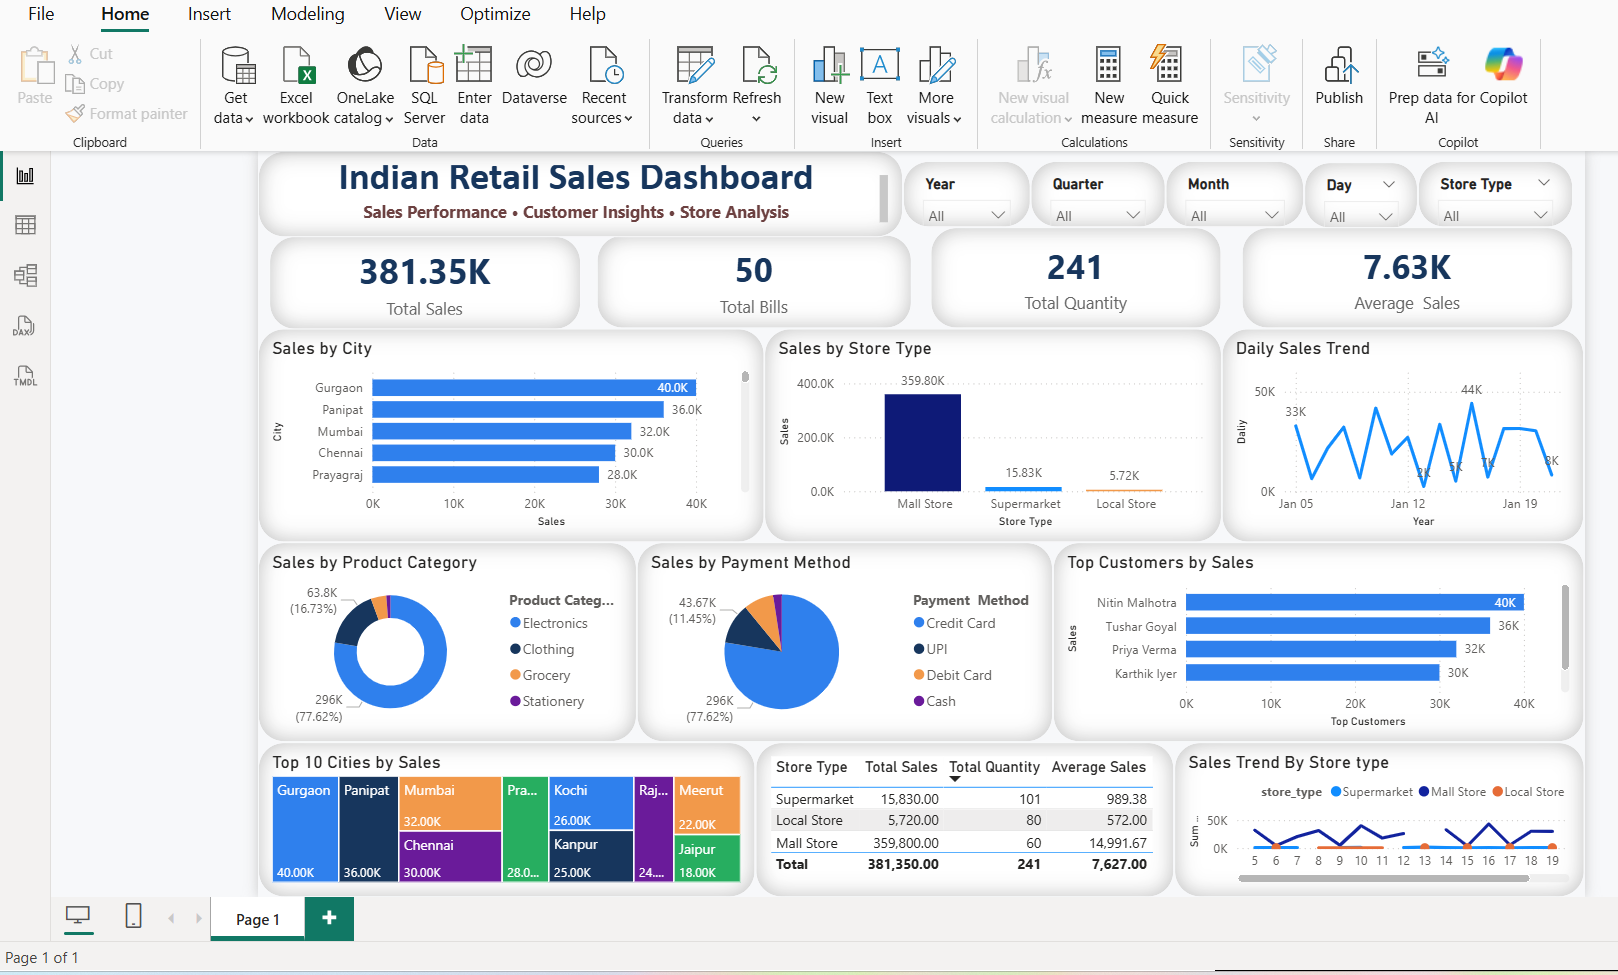

The dashboard page shown, as its layout file describes it:
{"tool":"powerbi","page":{"name":"Page 1","canvas":[1280,720],"ordinal":0},"visuals":[{"type":"card","fields":{"Values":["Sum(public indian_retail_store.quantity)"]},"box":[649.1,73.6,281.1,97.7],"z":0},{"type":"card","fields":{"Values":["Sum(public indian_retail_store.total_amount)"]},"box":[10.9,82,300.4,90.5],"z":1000},{"type":"card","fields":{"Values":["Count(public indian_retail_store.bill_id)"]},"box":[326.9,80.8,304,90.5],"z":2000},{"type":"clusteredBarChart","fields":{"Category":["public indian_retail_store.city"],"Y":["Sum(public indian_retail_store.total_amount)"]},"box":[0,171.3,488.6,206.3],"z":3000},{"type":"donutChart","fields":{"Y":["Sum(public indian_retail_store.total_amount)"],"Category":["public indian_retail_store.product_category"]},"box":[0,377.6,365.6,193],"z":4000},{"type":"lineChart","title":"Daily Sales Trend","fields":{"Y":["Sum(public indian_retail_store.total_amount)"],"Category":["public indian_retail_store.new_visit_date.Variation.Date Hierarchy.Year","public indian_retail_store.new_visit_date.Variation.Date Hierarchy.Quarter","public indian_retail_store.new_visit_date.Variation.Date Hierarchy.Month","public indian_retail_store.new_visit_date.Variation.Date Hierarchy.Day"]},"box":[930.2,171.3,349.9,206.3],"z":5000},{"type":"pieChart","fields":{"Y":["Sum(public indian_retail_store.total_amount)"],"Category":["public indian_retail_store.payment_method"]},"box":[365.6,377.6,401.7,193],"z":6000},{"type":"clusteredColumnChart","fields":{"Category":["public indian_retail_store.store_type"],"Y":["Sum(public indian_retail_store.total_amount)"]},"box":[488.6,171.3,441.6,206.3],"z":7000},{"type":"clusteredBarChart","fields":{"Category":["public indian_retail_store.customer_name"],"Y":["Sum(public indian_retail_store.total_amount)"]},"box":[767.3,377.6,512.7,193],"z":8000},{"type":"tableEx","fields":{"Values":["public indian_retail_store.store_type","Sum(public indian_retail_store.total_amount)","Sum(public indian_retail_store.quantity)","Avg(public indian_retail_store.total_amount)"]},"box":[480.2,570.6,404.2,149.6],"z":9000},{"type":"treemap","fields":{"Group":["public indian_retail_store.city"],"Values":["Sum(public indian_retail_store.total_amount)"]},"box":[0,570.6,480.2,149.6],"z":10000},{"type":"actionButton","box":[0,0,100,40],"z":11000},{"type":"lineChart","title":"Sales Trend By Store type","fields":{"Y":["Sum(public indian_retail_store.total_amount)"],"Series":["public indian_retail_store.store_type"],"Category":["public indian_retail_store.new_visit_date.Variation.Date Hierarchy.Day"]},"box":[884.3,570.6,395.7,149.6],"z":12000},{"type":"slicer","fields":{"Values":["public indian_retail_store.new_visit_date.Variation.Date Hierarchy.Year"]},"box":[622.5,9.7,123.1,63.9],"z":13000},{"type":"slicer","fields":{"Values":["public indian_retail_store.new_visit_date.Variation.Date Hierarchy.Quarter"]},"box":[745.6,9.7,130.3,63.9],"z":14000},{"type":"slicer","fields":{"Values":["public indian_retail_store.new_visit_date.Variation.Date Hierarchy.Day"]},"box":[1009.8,10.9,109.8,63.9],"z":15000},{"type":"slicer","fields":{"Values":["public indian_retail_store.store_type"]},"box":[1119.6,9.7,149.6,63.9],"z":16000},{"type":"slicer","fields":{"Values":["public indian_retail_store.new_visit_date.Variation.Date Hierarchy.Month"]},"box":[875.9,9.7,133.9,63.9],"z":17000},{"type":"textbox","box":[0,0,622.5,83],"z":18000},{"type":"card","fields":{"Values":["Avg(public indian_retail_store.total_amount)"]},"box":[949.5,73.6,319.7,97.7],"z":19000}]}

Visuals, with their boxes on the page's 1280x720 design canvas (x1, y1, x2, y2). These are canvas units, not pixel positions in the 1618x975 screenshot, which may show the page scaled, cropped or inside an application window:
card - Sum(public indian_retail_store.quantity): locate(649, 74, 930, 171)
card - Sum(public indian_retail_store.total_amount): locate(11, 82, 311, 172)
card - Count(public indian_retail_store.bill_id): locate(327, 81, 631, 171)
clusteredBarChart - public indian_retail_store.city x Sum(public indian_retail_store.total_amount): locate(0, 171, 489, 378)
donutChart - Sum(public indian_retail_store.total_amount) x public indian_retail_store.product_category: locate(0, 378, 366, 571)
"Daily Sales Trend" lineChart: locate(930, 171, 1280, 378)
pieChart - Sum(public indian_retail_store.total_amount) x public indian_retail_store.payment_method: locate(366, 378, 767, 571)
clusteredColumnChart - public indian_retail_store.store_type x Sum(public indian_retail_store.total_amount): locate(489, 171, 930, 378)
clusteredBarChart - public indian_retail_store.customer_name x Sum(public indian_retail_store.total_amount): locate(767, 378, 1280, 571)
tableEx - public indian_retail_store.store_type x Sum(public indian_retail_store.total_amount): locate(480, 571, 884, 720)
treemap - public indian_retail_store.city x Sum(public indian_retail_store.total_amount): locate(0, 571, 480, 720)
actionButton: locate(0, 0, 100, 40)
"Sales Trend By Store type" lineChart: locate(884, 571, 1280, 720)
slicer - public indian_retail_store.new_visit_date.Variation.Date Hierarchy.Year: locate(622, 10, 746, 74)
slicer - public indian_retail_store.new_visit_date.Variation.Date Hierarchy.Quarter: locate(746, 10, 876, 74)
slicer - public indian_retail_store.new_visit_date.Variation.Date Hierarchy.Day: locate(1010, 11, 1120, 75)
slicer - public indian_retail_store.store_type: locate(1120, 10, 1269, 74)
slicer - public indian_retail_store.new_visit_date.Variation.Date Hierarchy.Month: locate(876, 10, 1010, 74)
textbox: locate(0, 0, 622, 83)
card - Avg(public indian_retail_store.total_amount): locate(950, 74, 1269, 171)
